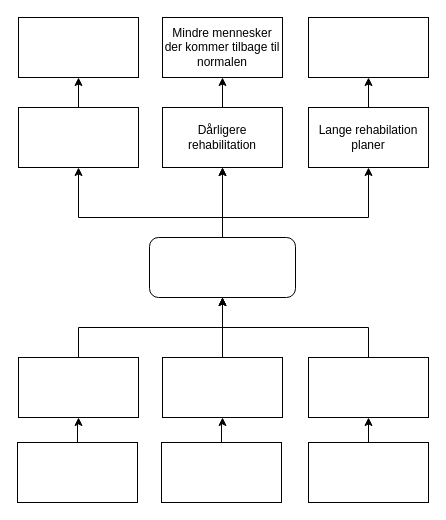
This 446x520 diagram has some shape labels left out. Here are the shapes that lost their labels. From the top down, the centre of each, then its label:
[368,47]: Overbelastet rehabilitation
[222,267]: Mangel på Effektive Rehabiliteringsmetoder.
